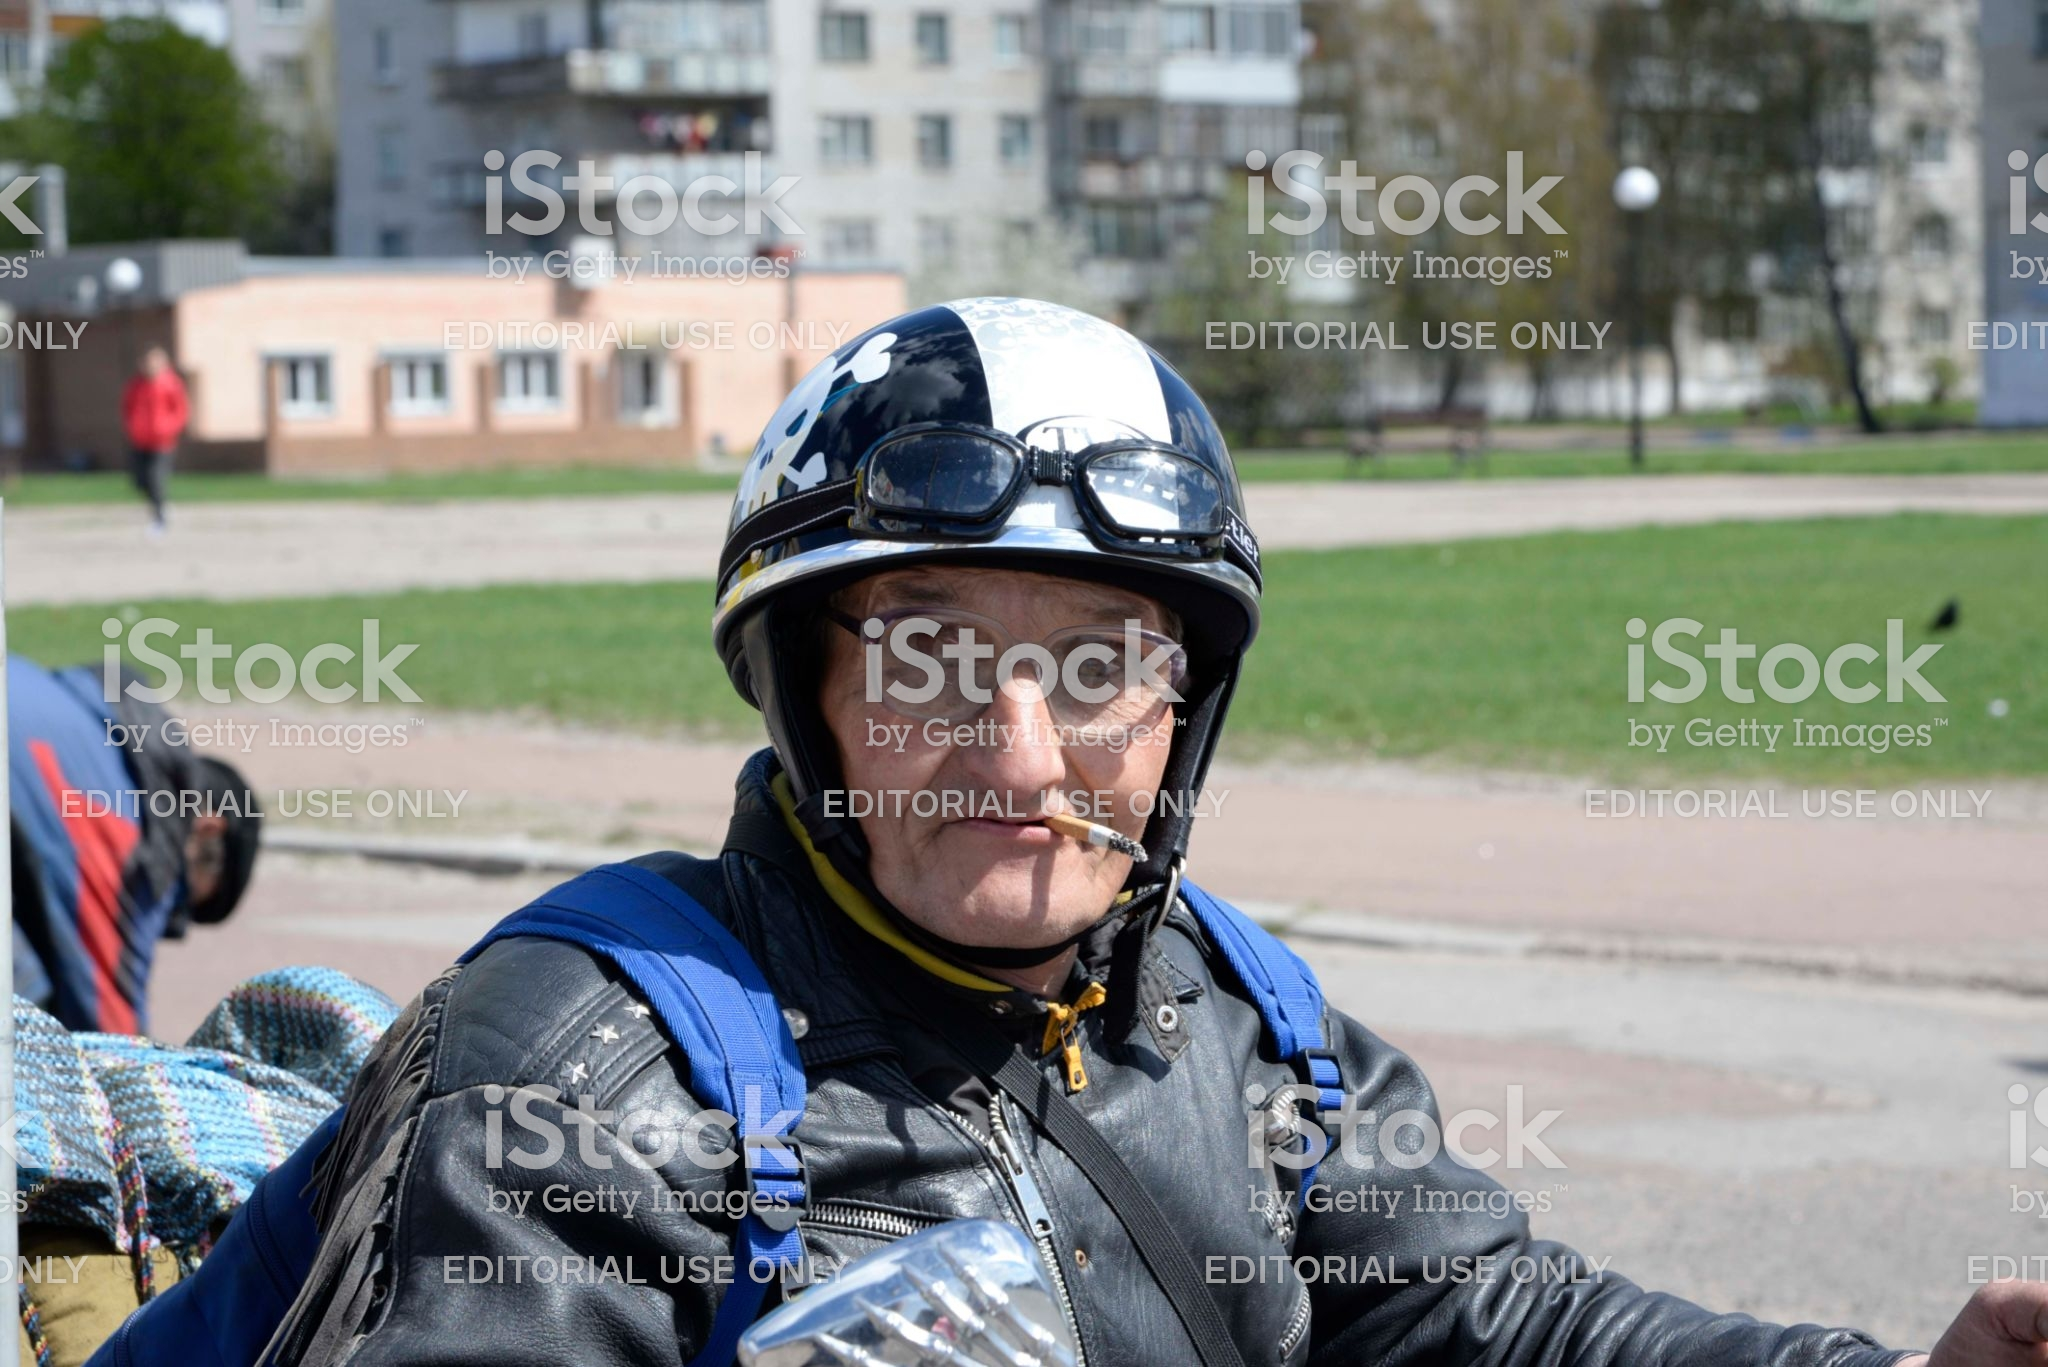helmet: (621, 305, 1342, 690)
